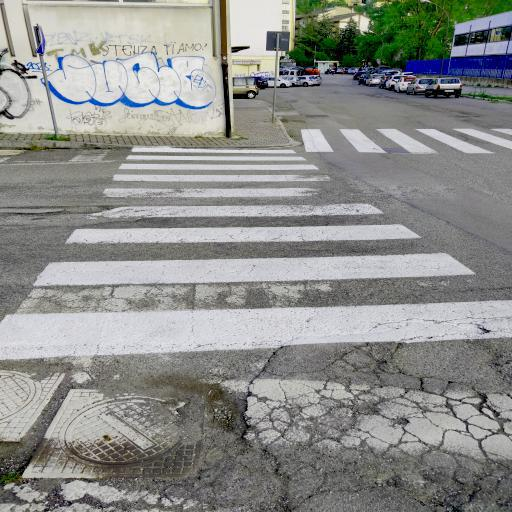crosswalk: (25, 221, 484, 292), (374, 120, 499, 165), (106, 162, 336, 186)
